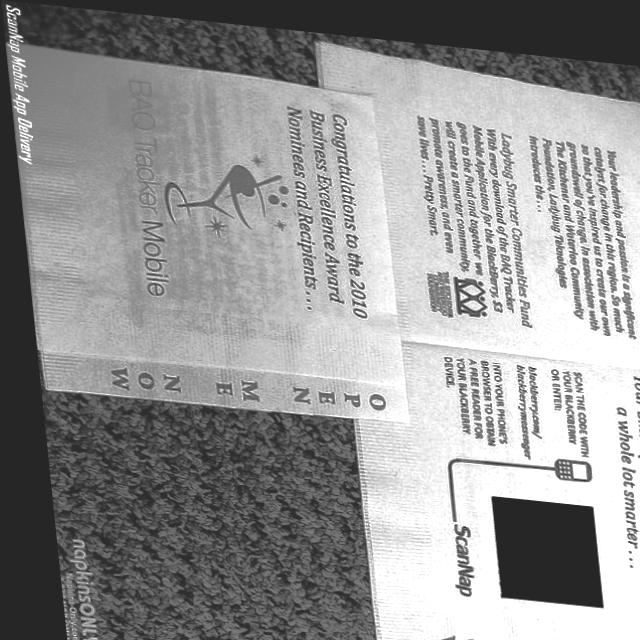qr_code: (481, 487, 590, 595)
